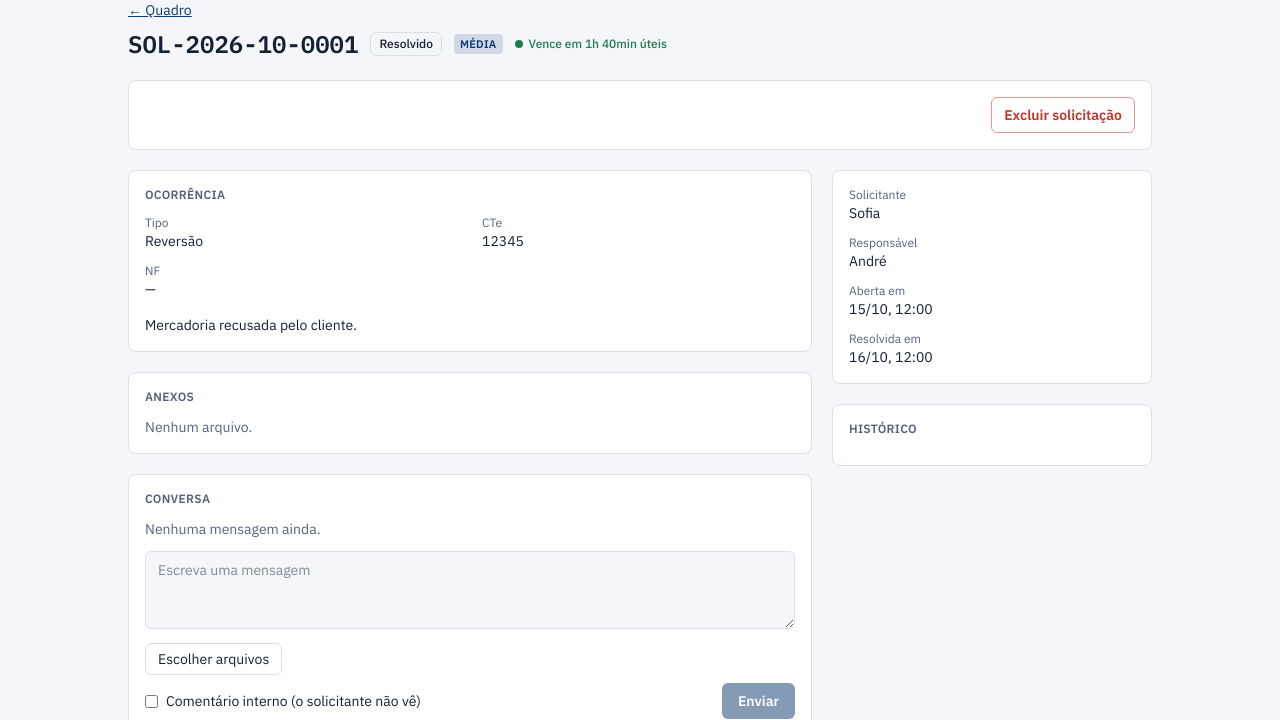
detalhe: excluir e devolver para a fila › exclui a encerrada com o motivo e avisa que saiu de tudo
Step 1. Click the button "Excluir solicitação" → (1063, 115), box [991,97,1135,133]
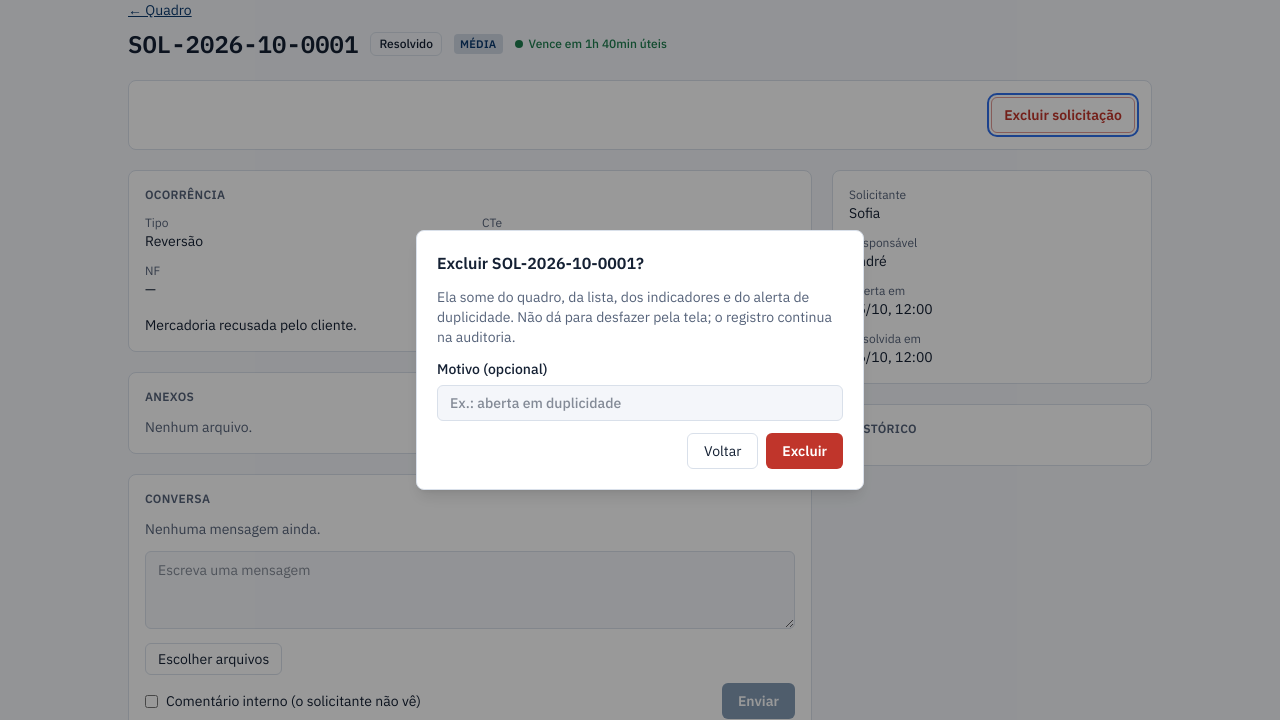
Step 2. Type "Aberta em duplicidade" into the field labelled "Motivo (opcional)" → (640, 403), box [437,385,843,421]
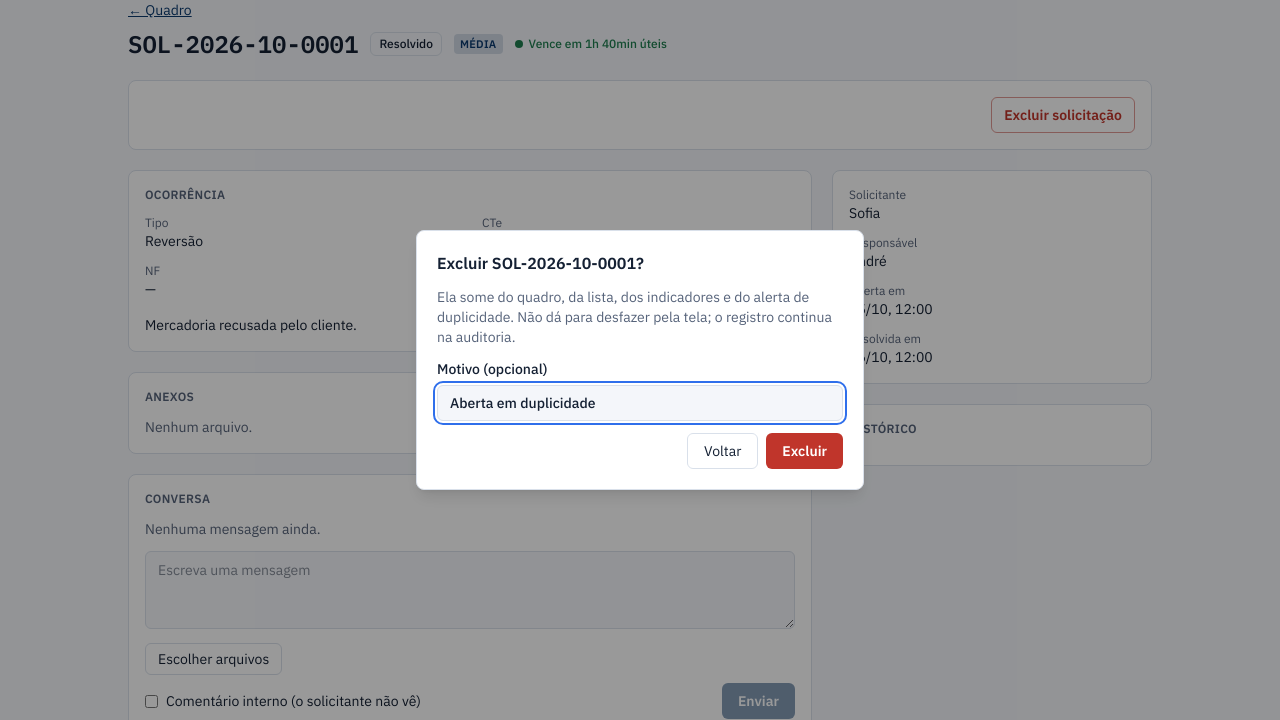
Step 3. Click the button "Excluir" → (805, 451), box [766,433,843,469]
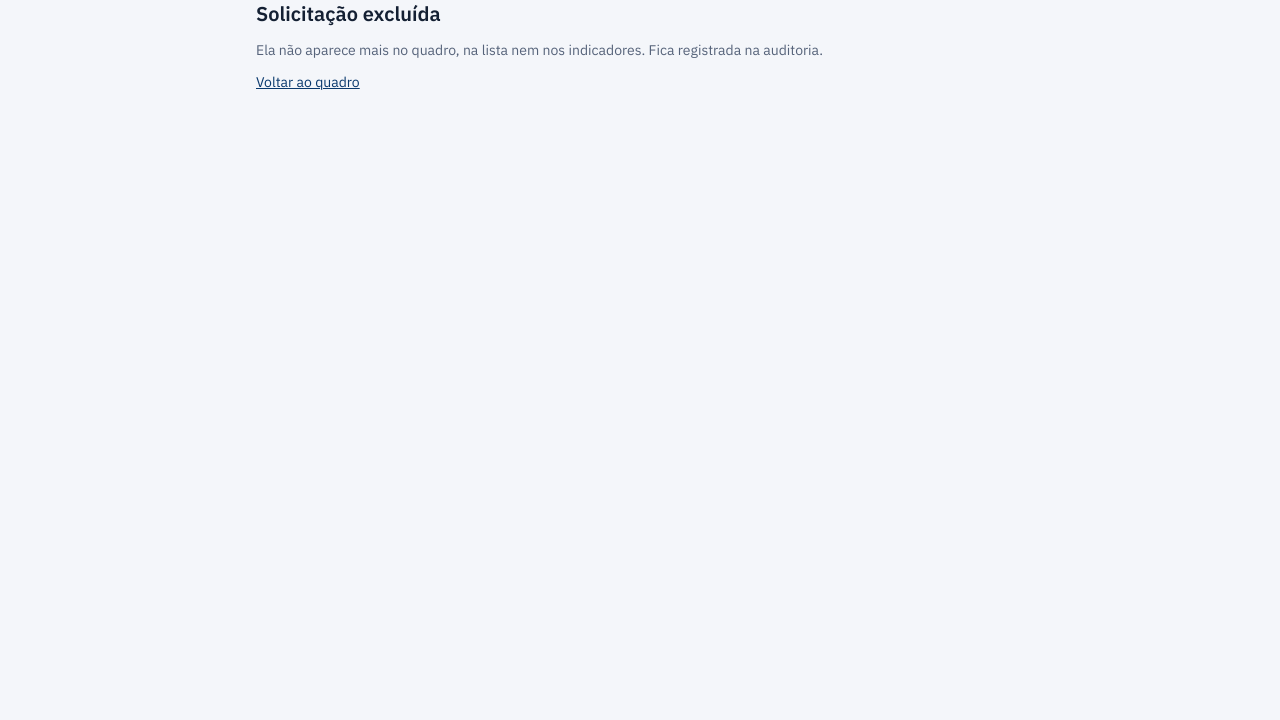
Now the heading "Solicitação excluída" is shown, box [256,0,441,27]
